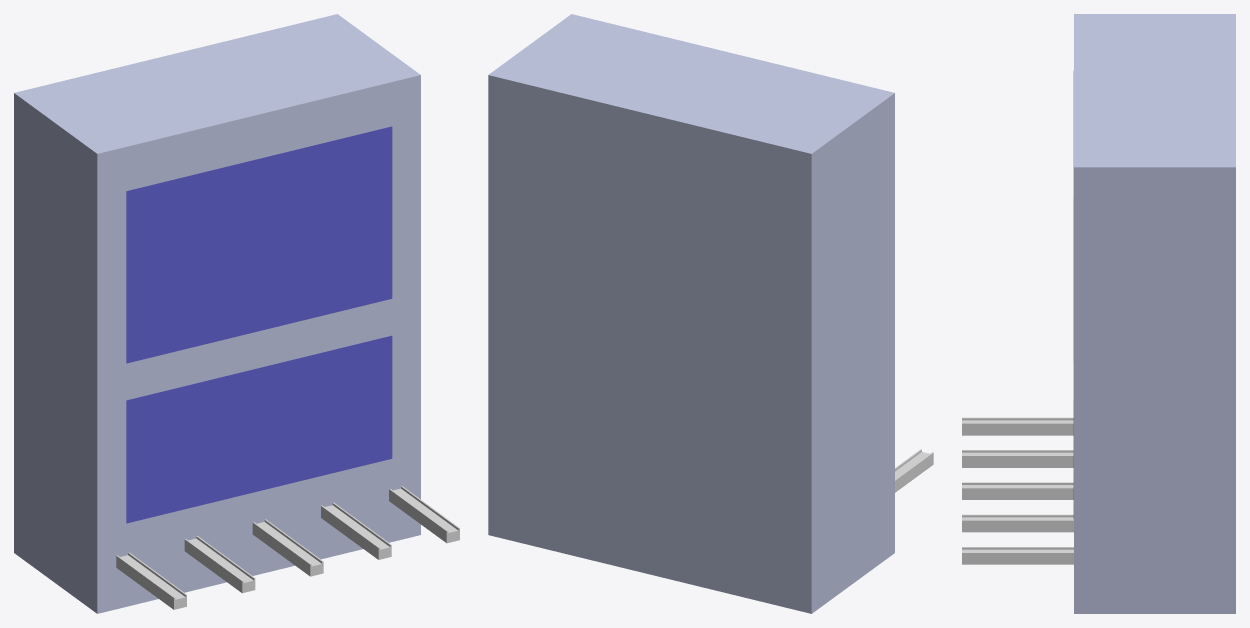
The model's file is asrs.dae.
3 views of the same model, side by side, from view 1: azimuth 30°, elevation 25°; view 2: azimuth 150°, elevation 25°; view 3: azimuth 270°, elevation 25° (orthographic). The views are drawn at different scales.
Visible parts, largest first — view 1: node_9653c69a_0e55_4226_a4ec_6185a553964c_mesh1, node_9653c69a_0e55_4226_a4ec_6185a553964c_mesh2, node_9653c69a_0e55_4226_a4ec_6185a553964c_mesh0; view 2: node_9653c69a_0e55_4226_a4ec_6185a553964c_mesh1, node_9653c69a_0e55_4226_a4ec_6185a553964c_mesh0; view 3: node_9653c69a_0e55_4226_a4ec_6185a553964c_mesh1, node_9653c69a_0e55_4226_a4ec_6185a553964c_mesh0, node_9653c69a_0e55_4226_a4ec_6185a553964c_mesh2.
Boxes of the visible parts, <box> form: node_9653c69a_0e55_4226_a4ec_6185a553964c_mesh1: <box>14,14,420,613</box>; node_9653c69a_0e55_4226_a4ec_6185a553964c_mesh2: <box>126,126,392,523</box>; node_9653c69a_0e55_4226_a4ec_6185a553964c_mesh0: <box>116,486,459,609</box>; node_9653c69a_0e55_4226_a4ec_6185a553964c_mesh1: <box>488,14,894,613</box>; node_9653c69a_0e55_4226_a4ec_6185a553964c_mesh0: <box>895,449,933,492</box>; node_9653c69a_0e55_4226_a4ec_6185a553964c_mesh1: <box>1074,14,1235,613</box>; node_9653c69a_0e55_4226_a4ec_6185a553964c_mesh0: <box>962,417,1073,564</box>; node_9653c69a_0e55_4226_a4ec_6185a553964c_mesh2: <box>1073,71,1073,518</box>.
Size of the model in its own units: 1376 by 1038 by 1869.
